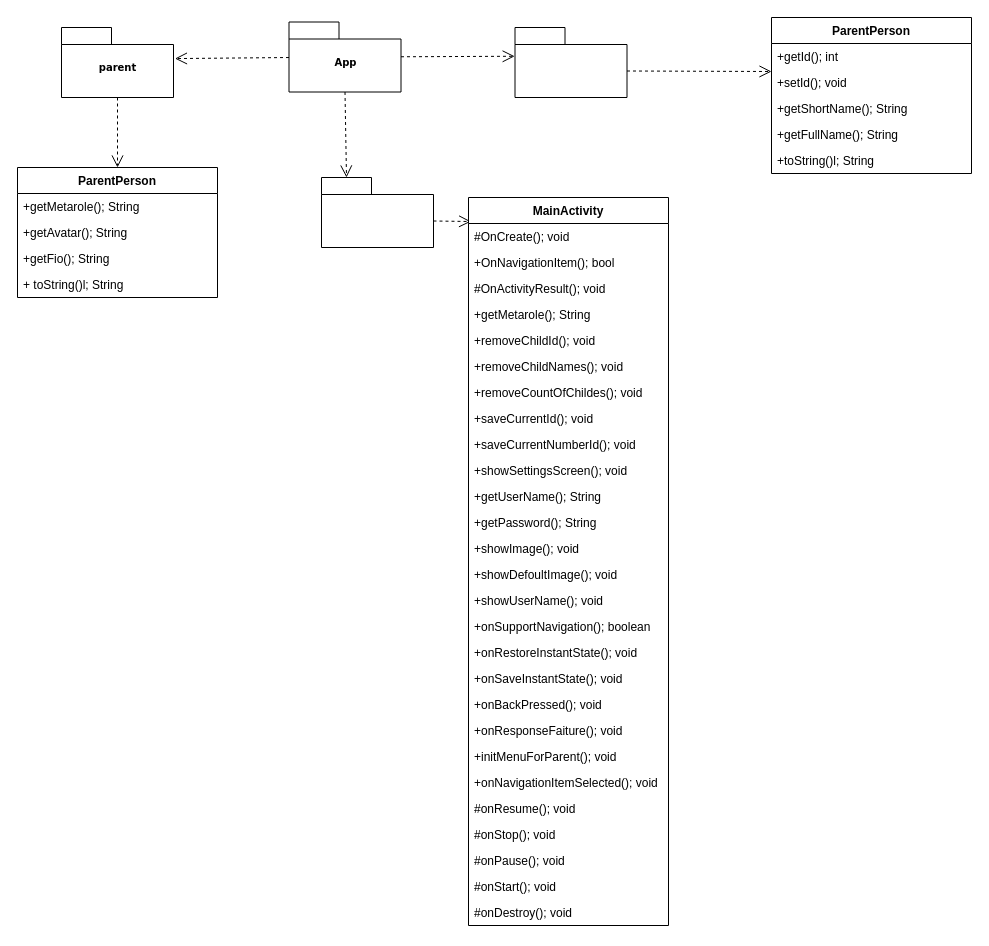
This 989x946 diagram has some shape labels left out. The shapes that lost their labels are listed below. From the top down, each one's centre as x and y in pixels, then its label:
[570,62]: adapter
[377,212]: main
